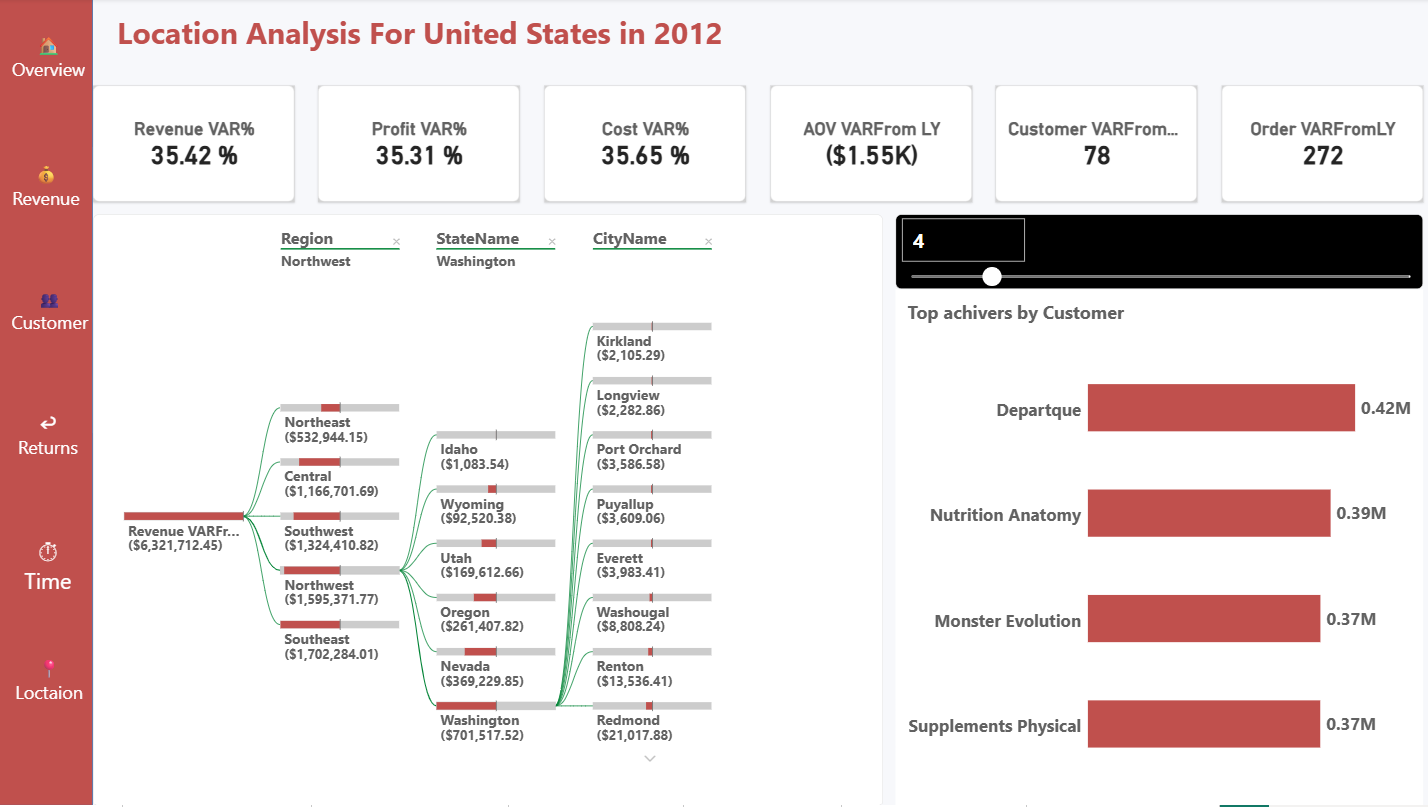

This screenshot's page, from the dashboard's own definition file:
{"tool":"powerbi","page":{"name":" 📍 Location Analysis","canvas":[1920,1080],"ordinal":6},"visuals":[{"type":"cardVisual","fields":{"Data":["Calcultaions.Revenue VAR%"]},"box":[126.7,117.6,269.6,155.6],"z":0},{"type":"shape","box":[0,1.8,126.7,1078.6],"z":1000},{"type":"cardVisual","fields":{"Data":["Calcultaions.Profit VAR%"]},"box":[428.2,117.6,269.6,155.6],"z":2000},{"type":"cardVisual","fields":{"Data":["Calcultaions.Cost VAR%"]},"box":[729.7,117.6,269.6,155.6],"z":3000},{"type":"cardVisual","fields":{"Data":["Calcultaions.AOV VARFrom LY"]},"box":[1031.1,117.6,269.6,155.6],"z":4000},{"type":"cardVisual","fields":{"Data":["Calcultaions.Order VARFromLY"]},"box":[1634.1,117.6,269.6,155.6],"z":5000},{"type":"cardVisual","fields":{"Data":["Calcultaions.Customer VARFromLY"]},"box":[1332.6,117.6,269.6,155.6],"z":6000},{"type":"decompositionTreeVisual","fields":{"Analyze":["Calcultaions.Revenue VARFromLY"],"ExplainBy":["Customers.Region","Customers.StateName","Customers.CityName"]},"box":[127.1,288.9,1055.5,791.7],"z":7000},{"type":"slicer","fields":{"Values":["Top Customers.Top Customers"]},"box":[1198.9,288.9,705,100.2],"z":8000},{"type":"clusteredBarChart","fields":{"Category":["Customers.Customer"],"Y":["Calcultaions.Top achivers"]},"box":[1198.1,389.1,705,691.5],"z":9000},{"type":"actionButton","box":[128.1,18.8,870,82.9],"z":10000},{"type":"actionButton","title":"🏠Overview","box":[5.4,34.4,124.9,90.5],"z":11000},{"type":"actionButton","title":"🏠Overview","box":[1.8,206.3,124.9,90.5],"z":12000},{"type":"actionButton","title":"🏠Overview","box":[5.4,372.8,128.5,90.5],"z":13000},{"type":"actionButton","title":"🏠Overview","box":[3.6,539.3,126.7,90.5],"z":14000},{"type":"actionButton","title":"🏠Overview","box":[14.5,705.8,103.2,105],"z":15000},{"type":"actionButton","title":"🏠Overview","box":[7.2,866.8,123.1,90.5],"z":16000}]}

Visuals, with their boxes on the page's 1920x1080 design canvas (x1, y1, x2, y2). These are canvas units, not pixel positions in the 1428x807 screenshot, which may show the page scaled, cropped or inside an application window:
cardVisual - Calcultaions.Revenue VAR%: (127,118,396,273)
shape: (0,2,127,1080)
cardVisual - Calcultaions.Profit VAR%: (428,118,698,273)
cardVisual - Calcultaions.Cost VAR%: (730,118,999,273)
cardVisual - Calcultaions.AOV VARFrom LY: (1031,118,1301,273)
cardVisual - Calcultaions.Order VARFromLY: (1634,118,1904,273)
cardVisual - Calcultaions.Customer VARFromLY: (1333,118,1602,273)
decompositionTreeVisual - Calcultaions.Revenue VARFromLY x Customers.Region: (127,289,1183,1081)
slicer - Top Customers.Top Customers: (1199,289,1904,389)
clusteredBarChart - Customers.Customer x Calcultaions.Top achivers: (1198,389,1903,1081)
actionButton: (128,19,998,102)
"🏠Overview" actionButton: (5,34,130,125)
"🏠Overview" actionButton: (2,206,127,297)
"🏠Overview" actionButton: (5,373,134,463)
"🏠Overview" actionButton: (4,539,130,630)
"🏠Overview" actionButton: (14,706,118,811)
"🏠Overview" actionButton: (7,867,130,957)
